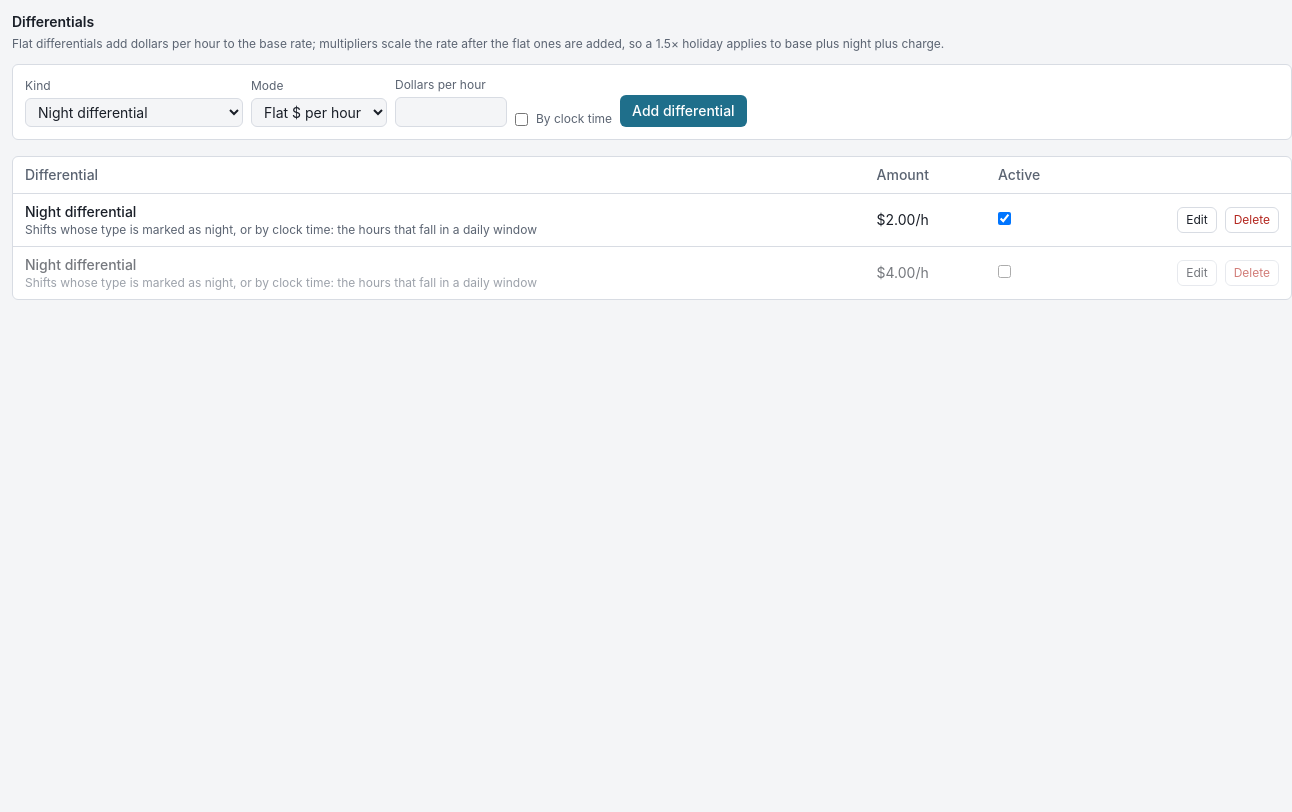
clock-time differentials in Settings › Pay › amounts the cost engine can price › says why turning on a second night rate was refused
The image size is (1292, 812).
Click the checkbox named "Night differential active" next to "$4.00/h" at (1004,272), box [998,265,1011,278]
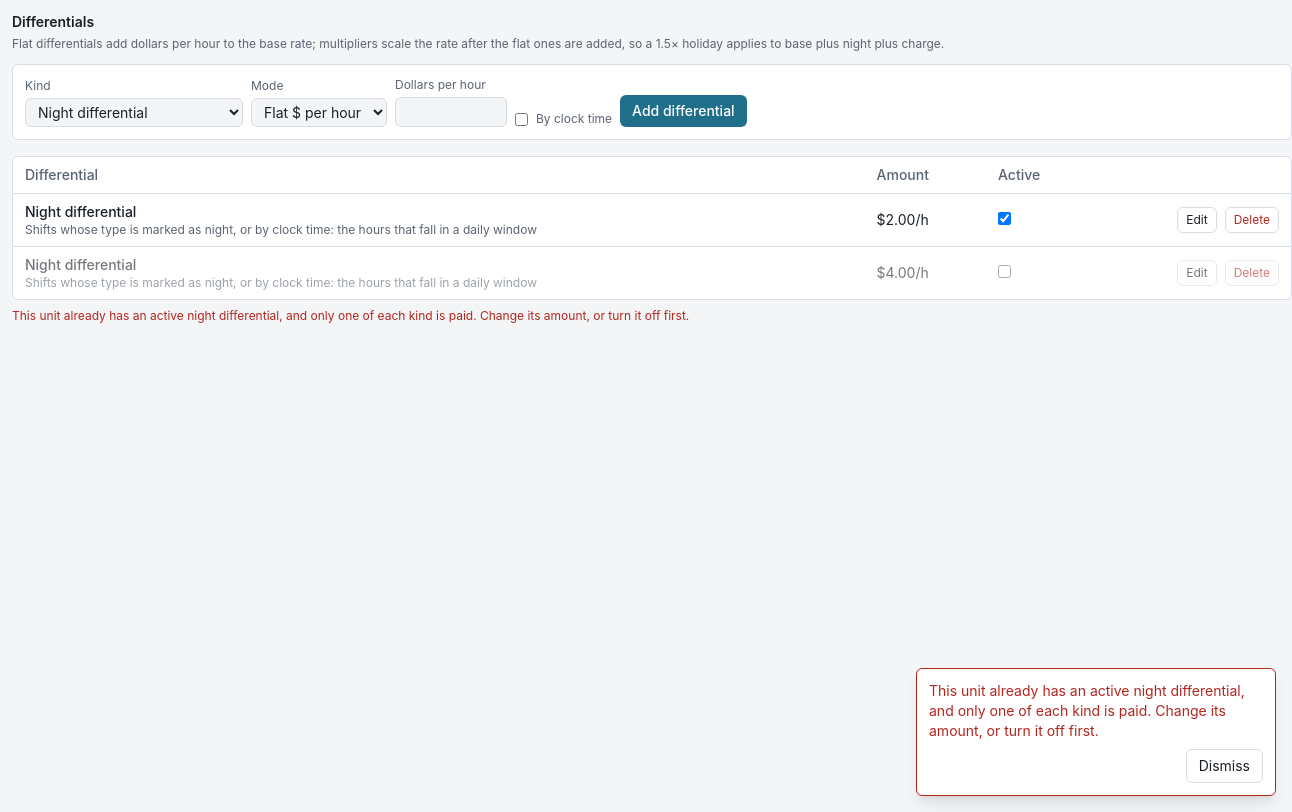
Check: the 1st message shows "This unit already has an active night differential, and only one of each kind is paid. Change its amount, or turn it off first.", box [12,308,689,323]
